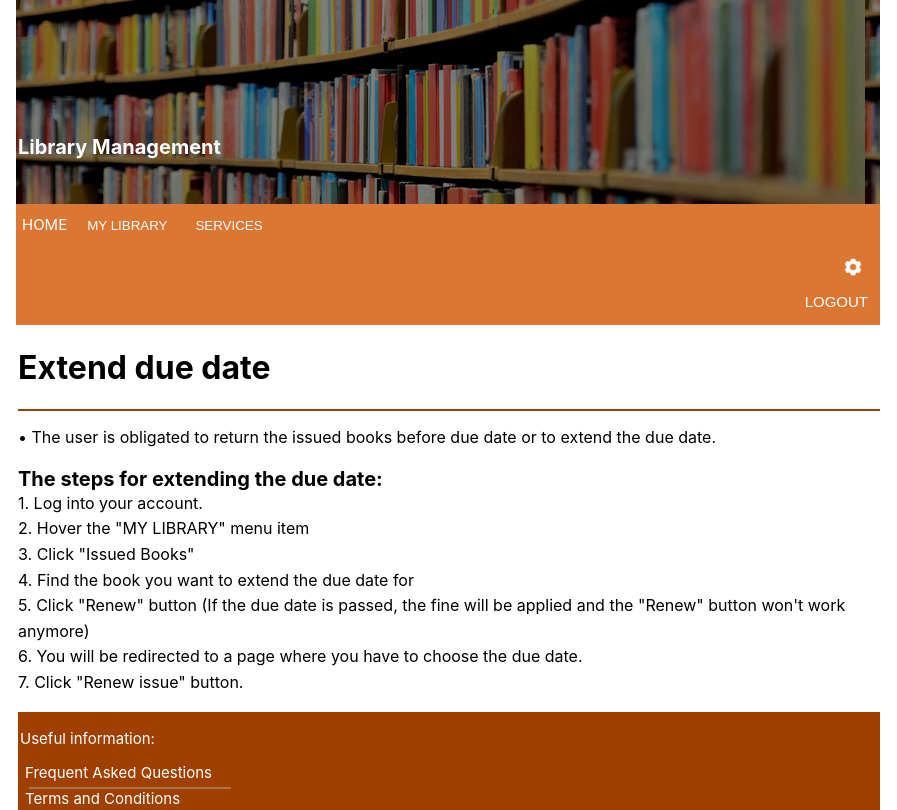
it: Menu buttons tests › Given any input then the Terms and conditions date page loads
Click the link "Terms and Conditions": (102, 798) x1=25 y1=789 x2=180 y2=808
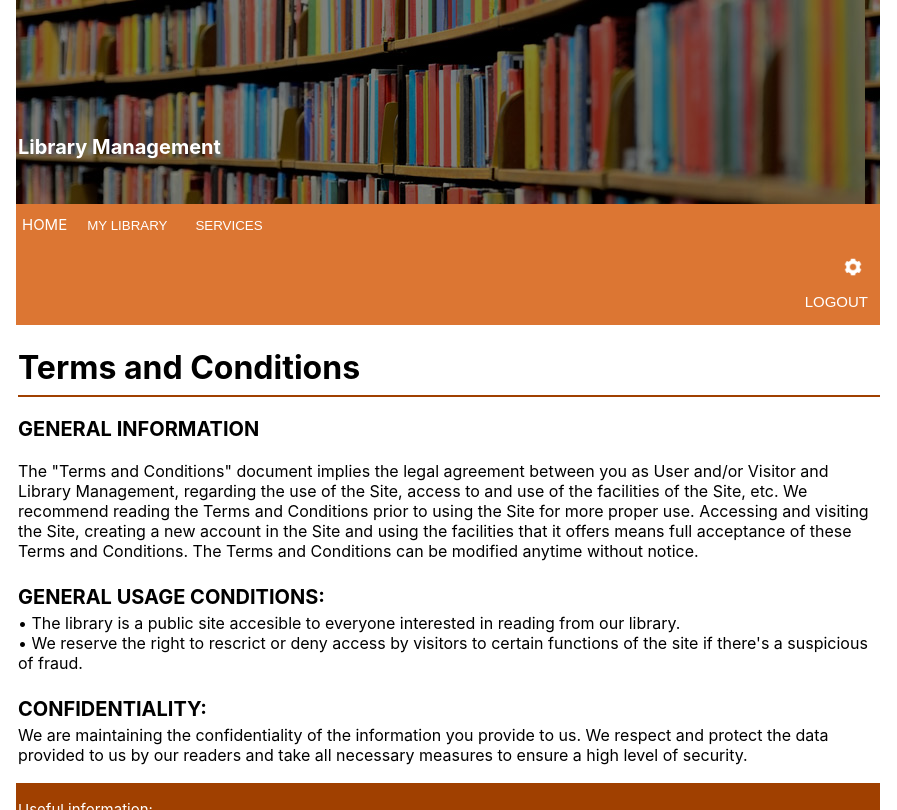
Now the text "GENERAL USAGE CONDITIONS:" is shown, box x1=18 y1=585 x2=325 y2=609
